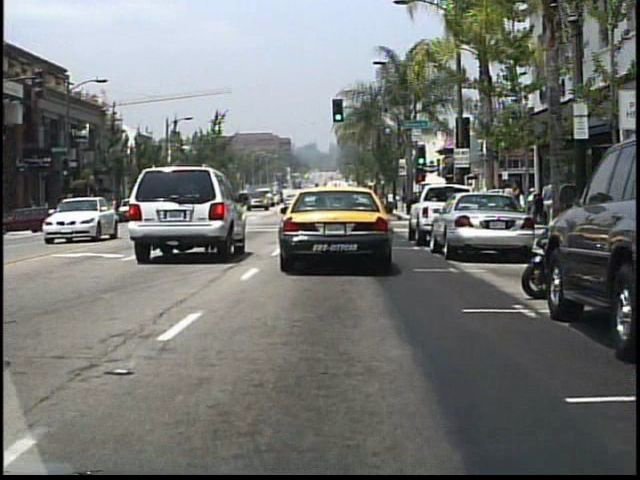person: (506, 179, 525, 233), (537, 180, 556, 228)
